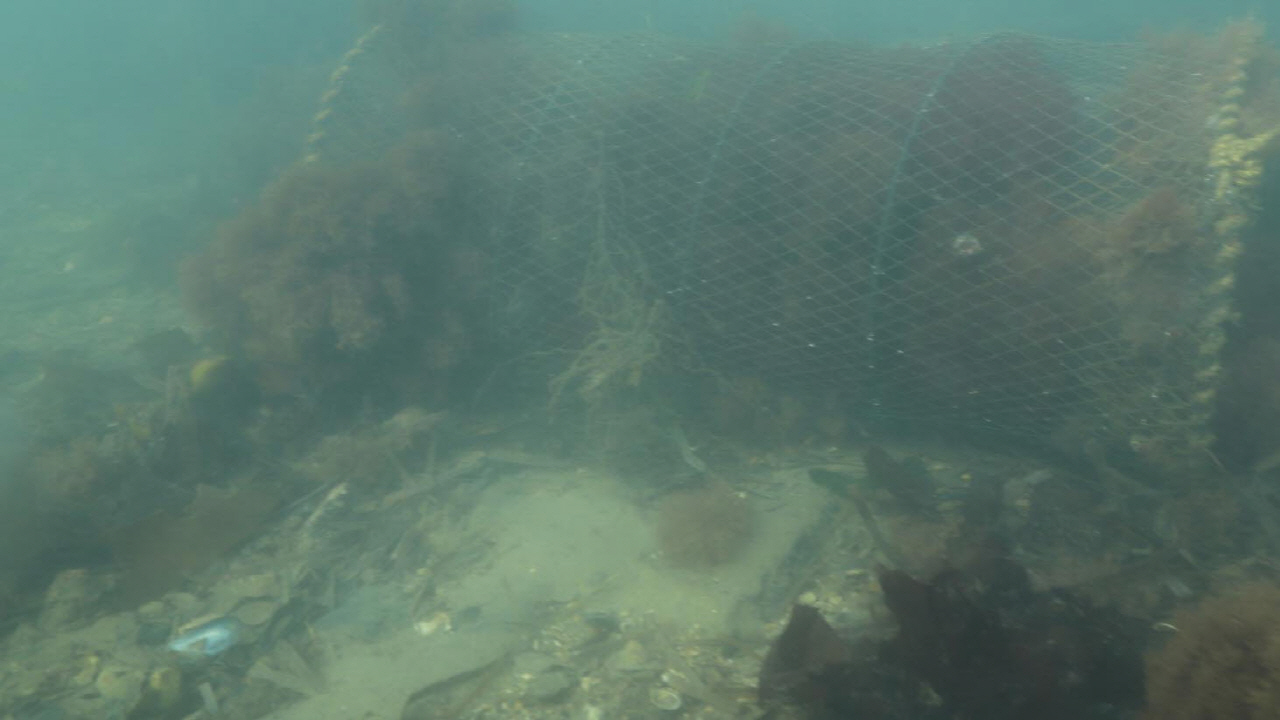bundle of ropes: (1213, 120, 1280, 191)
spring fish trap: (306, 18, 1273, 485)
